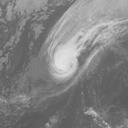cyclone: (39, 2, 108, 83)
